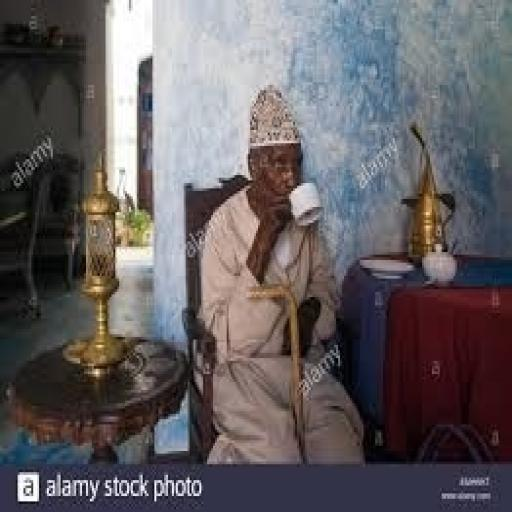drinking: (190, 82, 366, 464)
